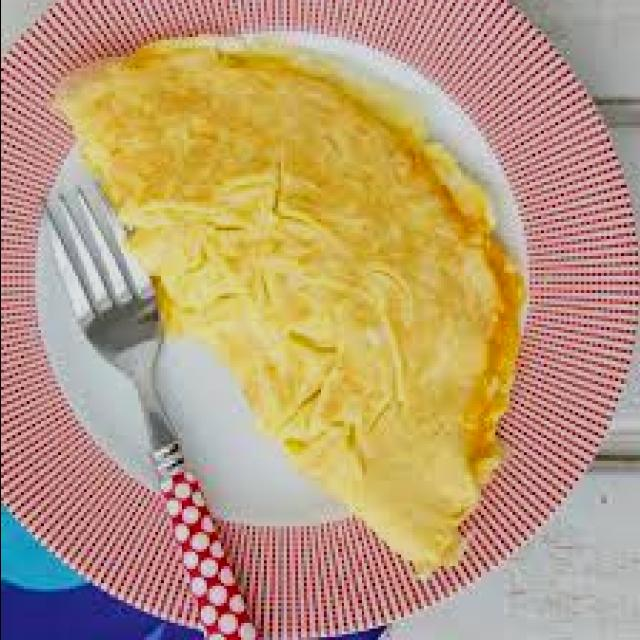telur dadar: (54, 31, 529, 572)
